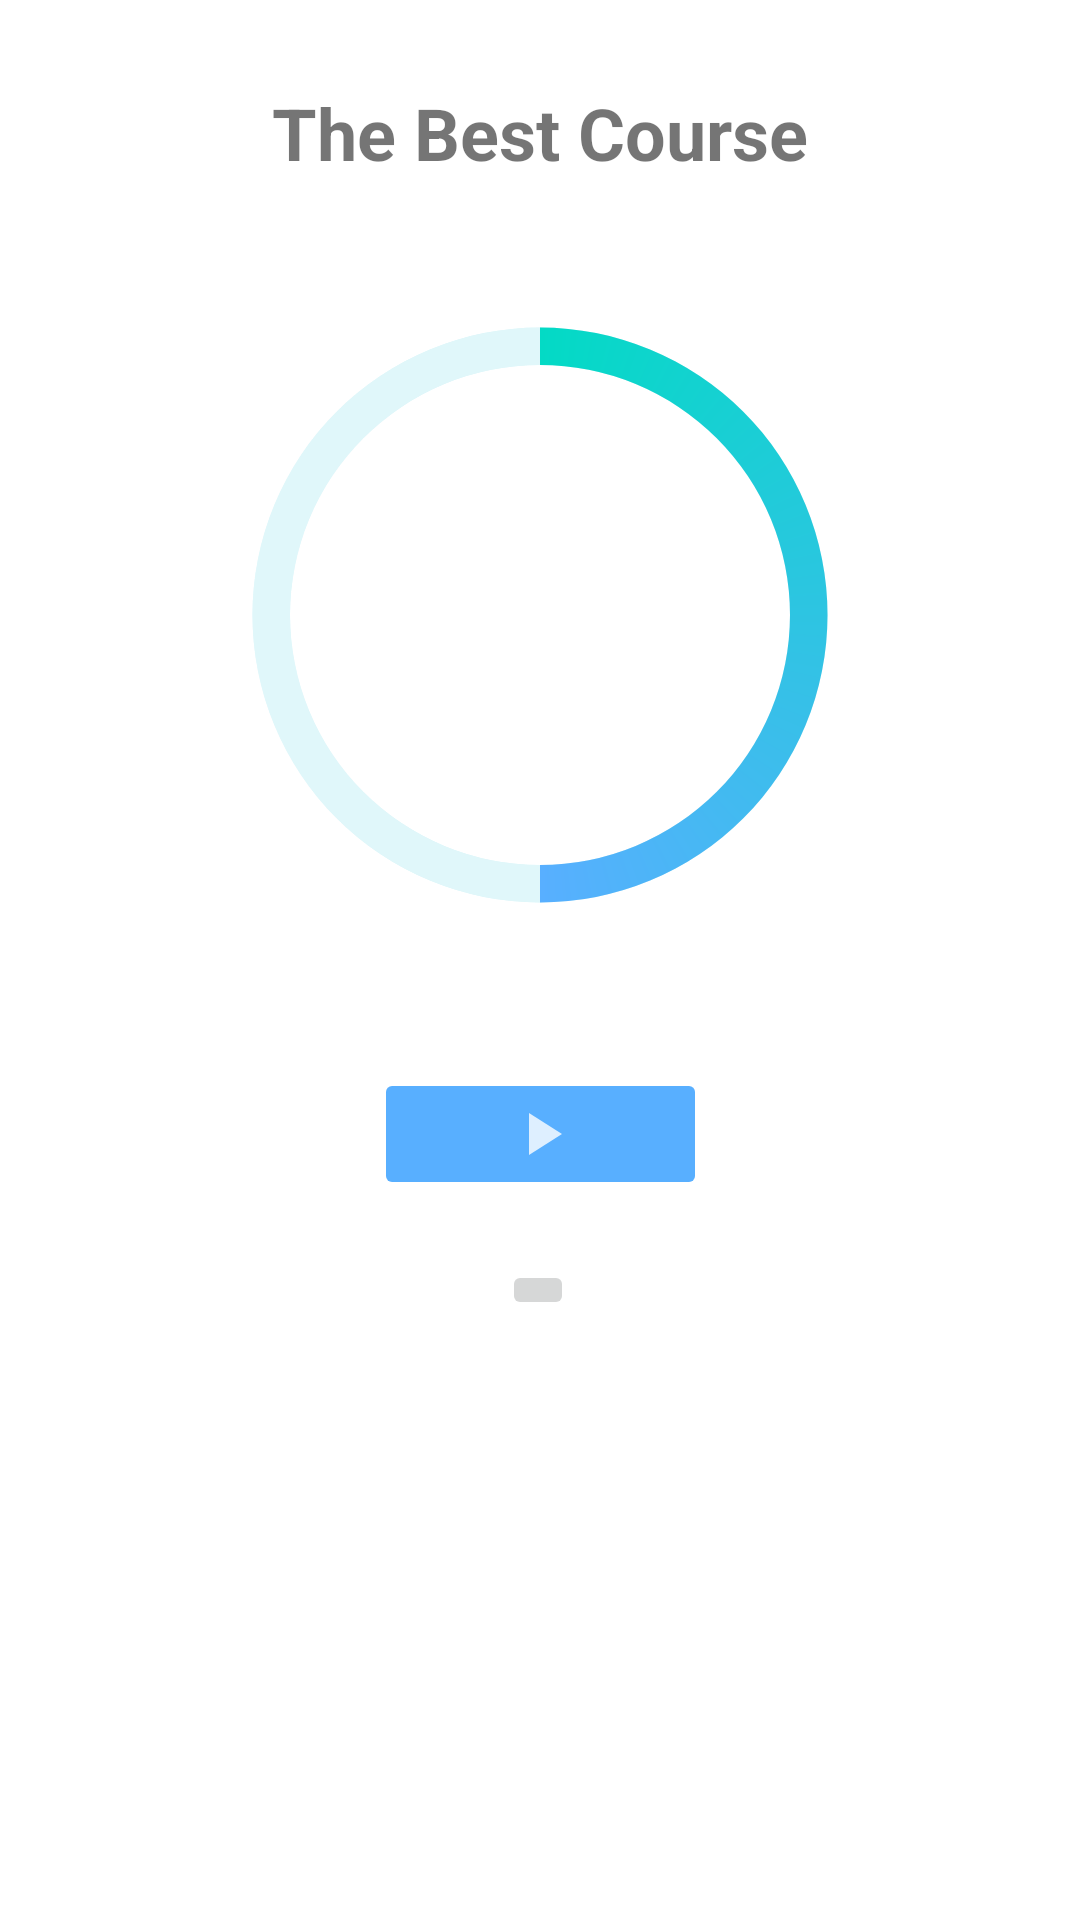

Icons on this 1080px×1920px Android screen, each with the point to tap as (x,y):
play: (540,1134)
